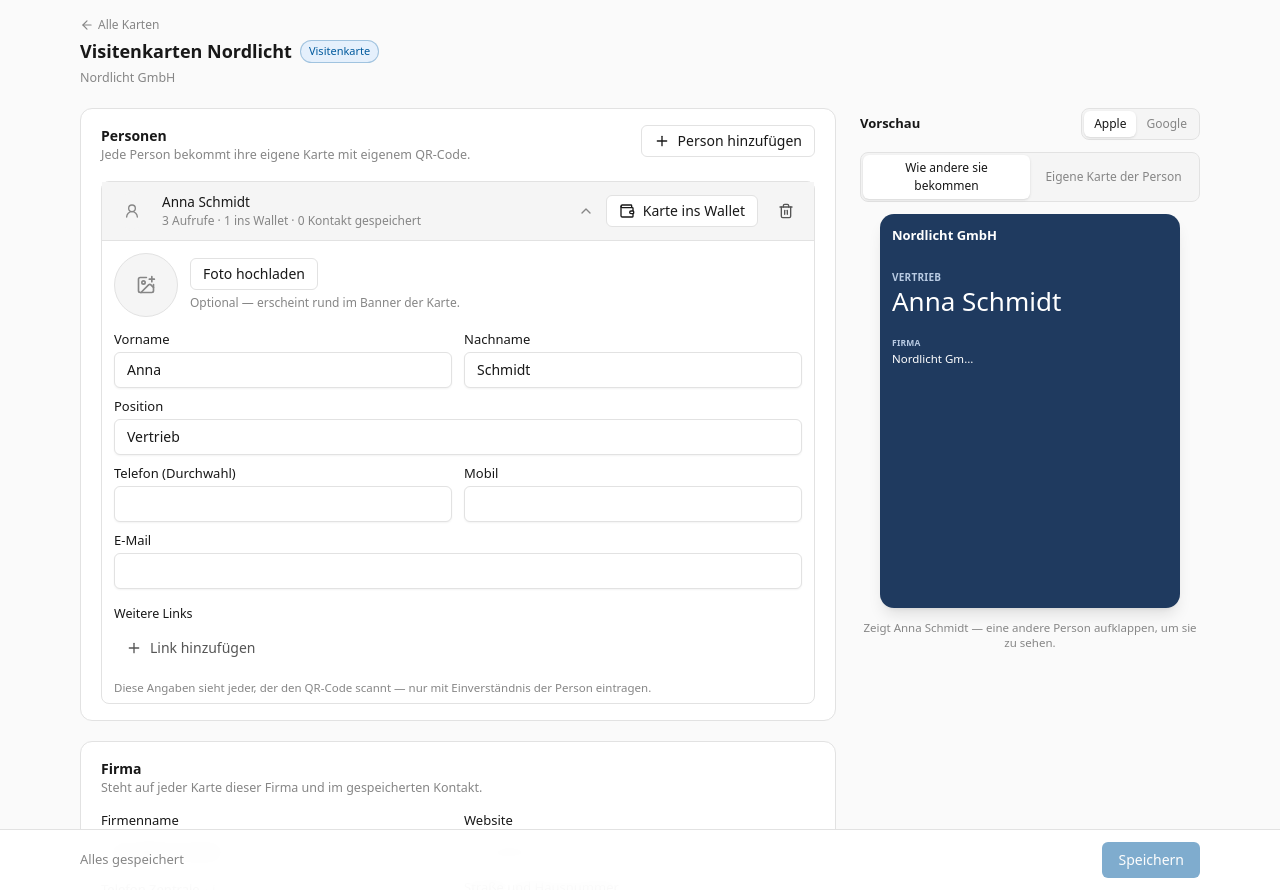
BusinessCardEditor › collects edits from every section and saves them with one click
In the field labelled "E-Mail": (458, 571) [114,553,802,589], type "anna@nordlicht.de"
(page scrolled)
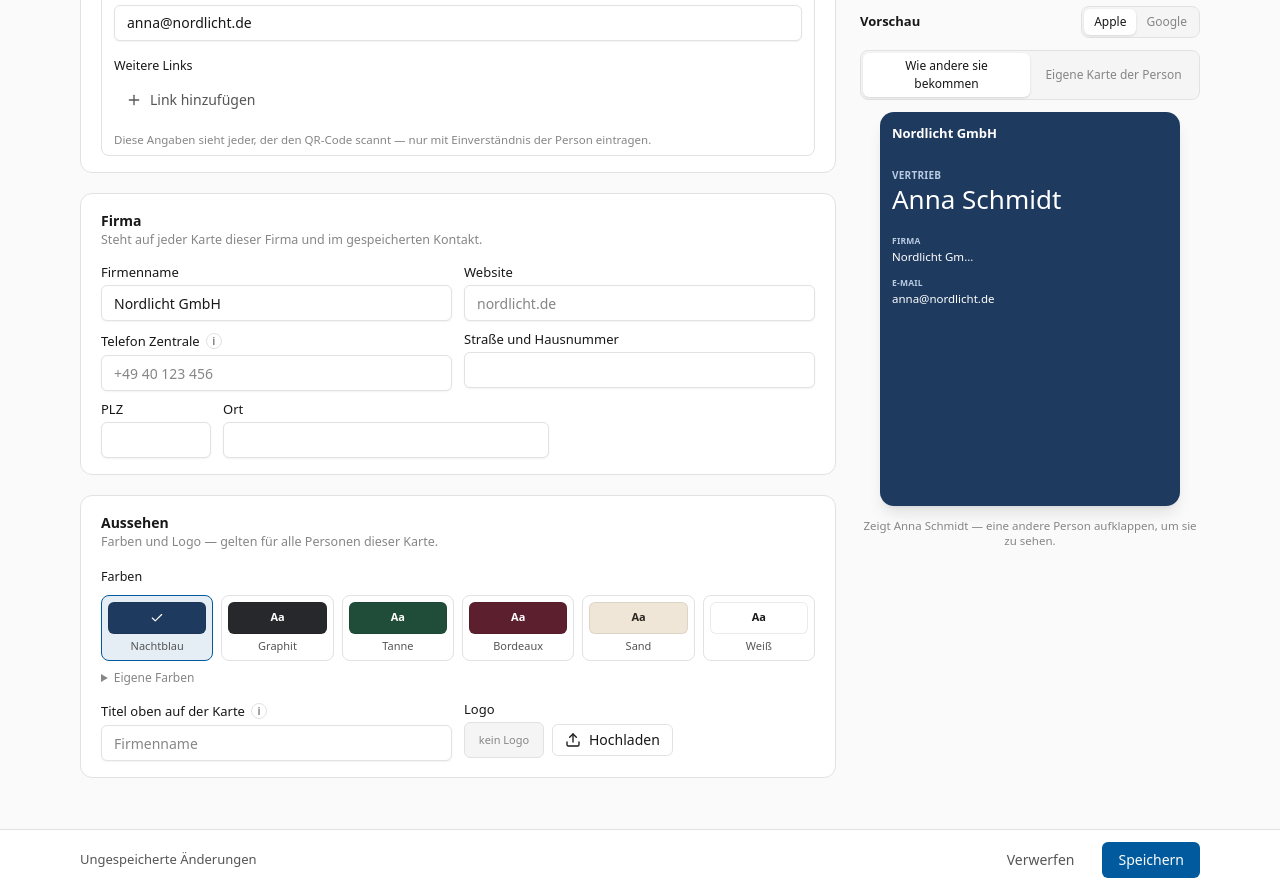
In the field labelled "Ort": (386, 440) [223,422,549,458], type "Hamburg"
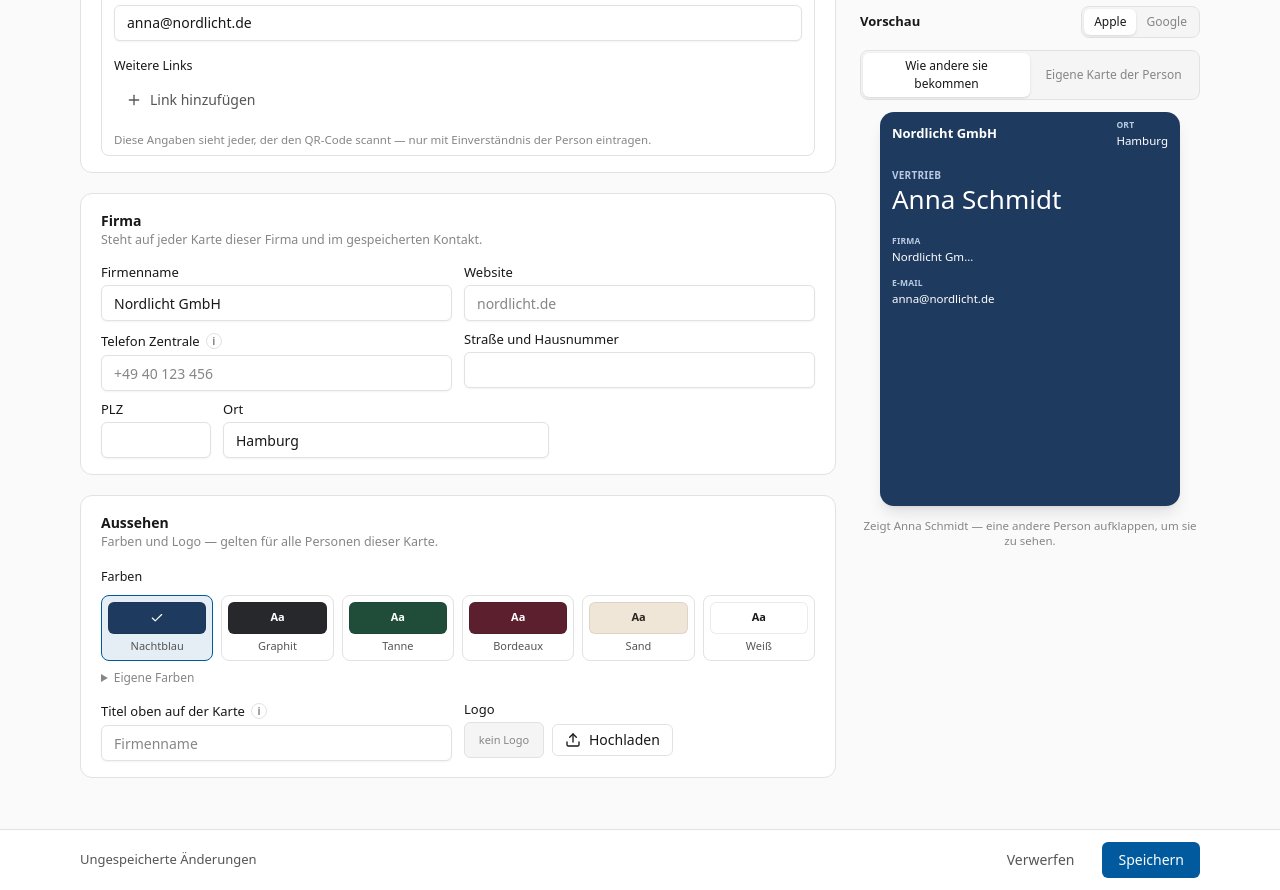
Click the button "Aa Graphit": (277, 628) [221,595,334,661]
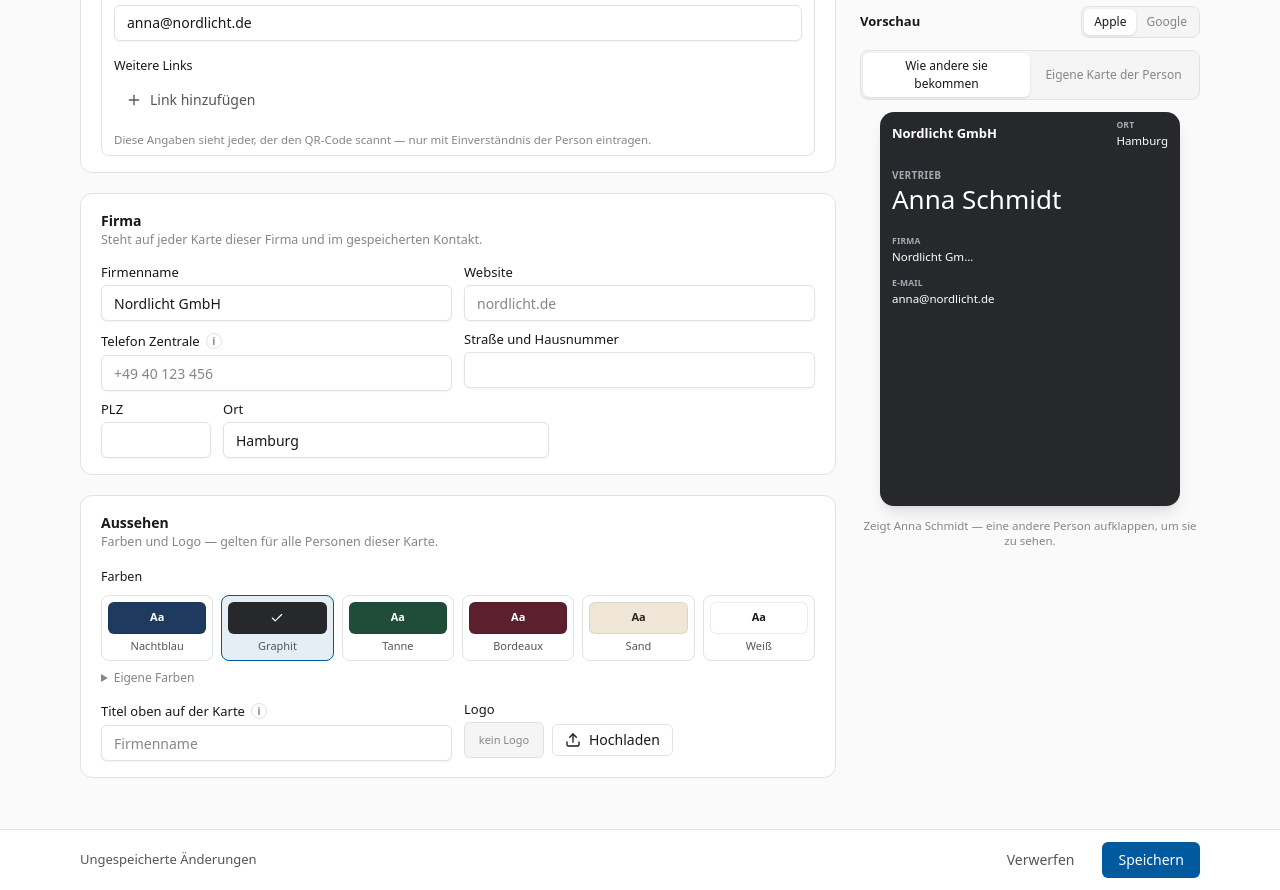
Expected: the text "Ungespeicherte Änderungen" is shown, [80,850,257,870]
Expected: the button "Speichern" is enabled
Click the button "Speichern": (1151, 860) [1102,842,1200,878]
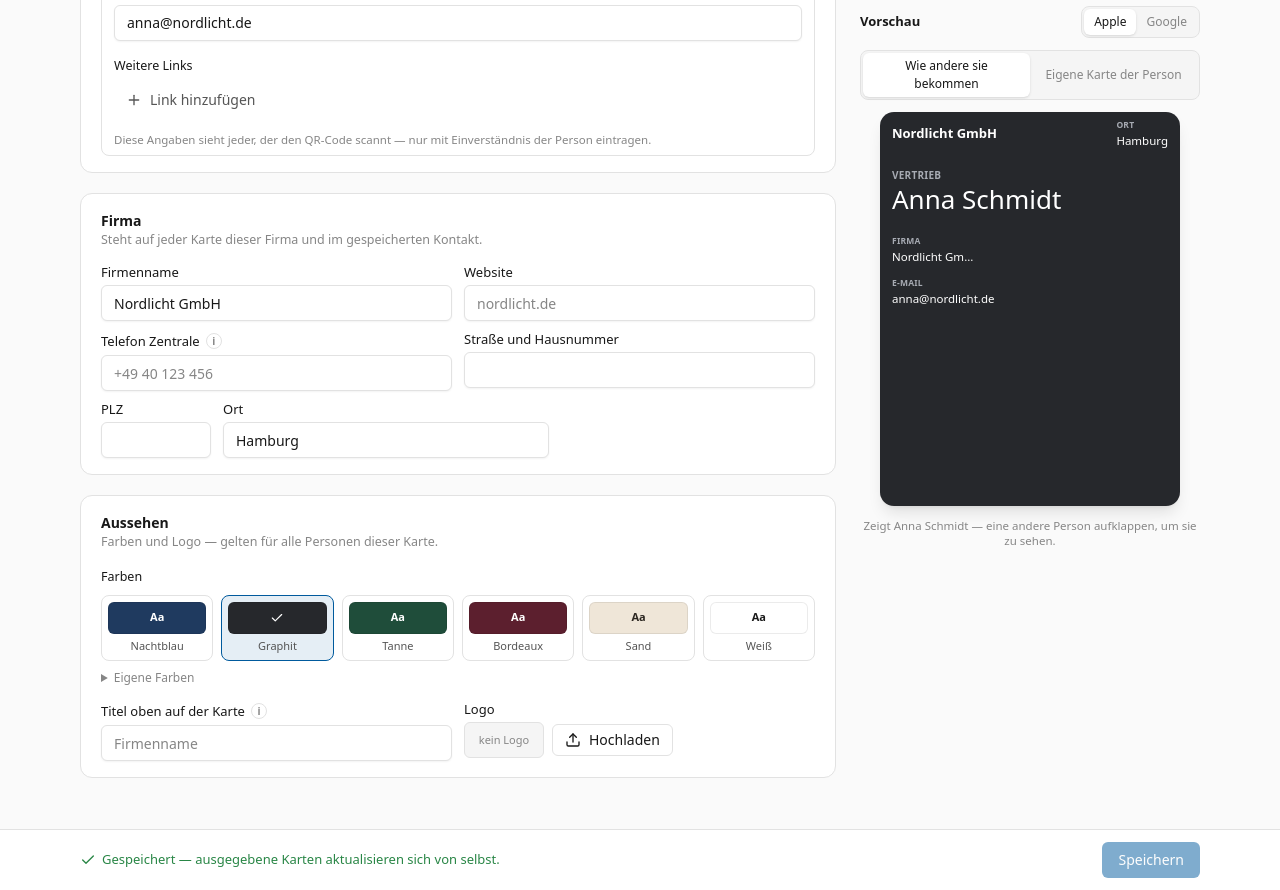
Expected: the text "Gespeichert" is shown, [102,850,500,868]
